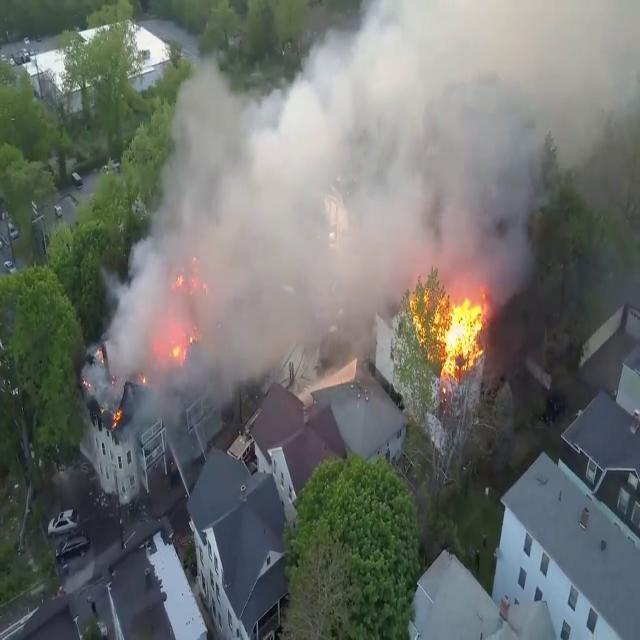Fire: (407, 270, 491, 382)
Smoke: (97, 2, 578, 420), (98, 1, 596, 286)
